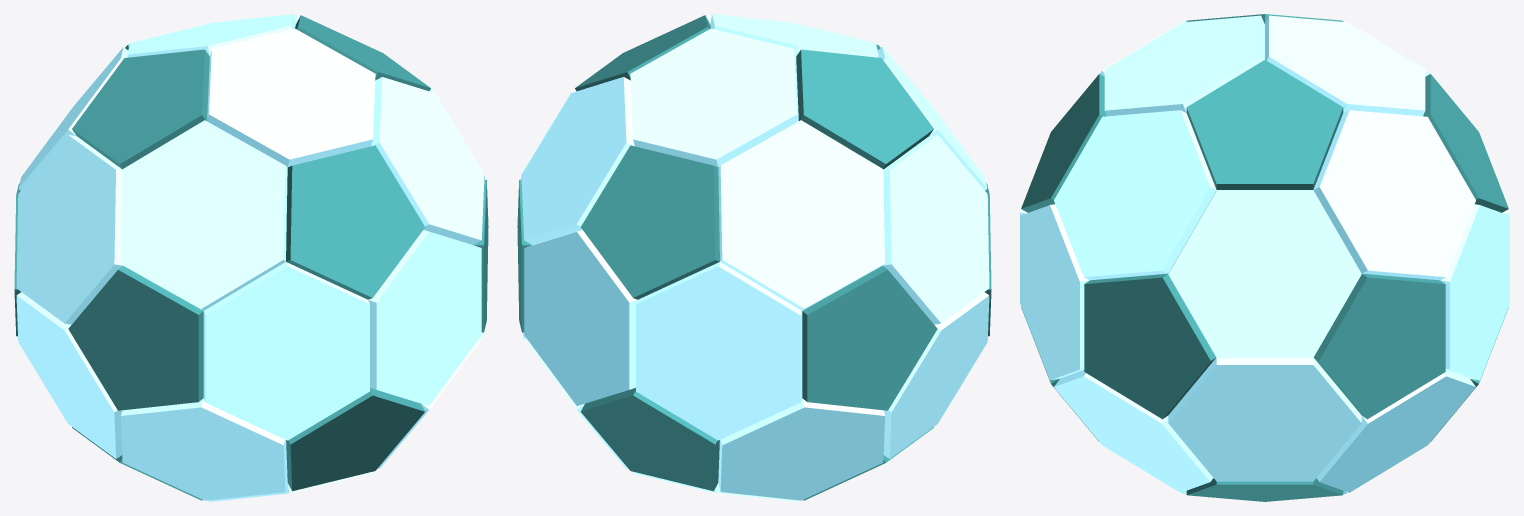
File: football.fbx
The picture shows the model from 3 angles, left to right: view 1: azimuth 30°, elevation 25°; view 2: azimuth 150°, elevation 25°; view 3: azimuth 270°, elevation 25°; orthographic projection.
Parts seen in each view (by area): view 1: Solid; view 2: Solid; view 3: Solid.
Part boxes in pixels (<box>): Solid: <box>14,14,488,501</box>; Solid: <box>517,14,991,501</box>; Solid: <box>1020,14,1509,501</box>.
Bounding box in the file's own units: 177 × 177 × 177.
